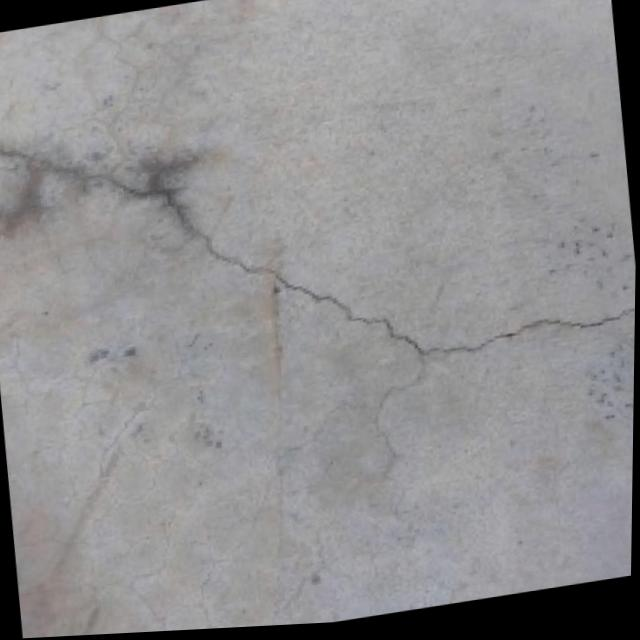Crack: (0, 28, 639, 463)
